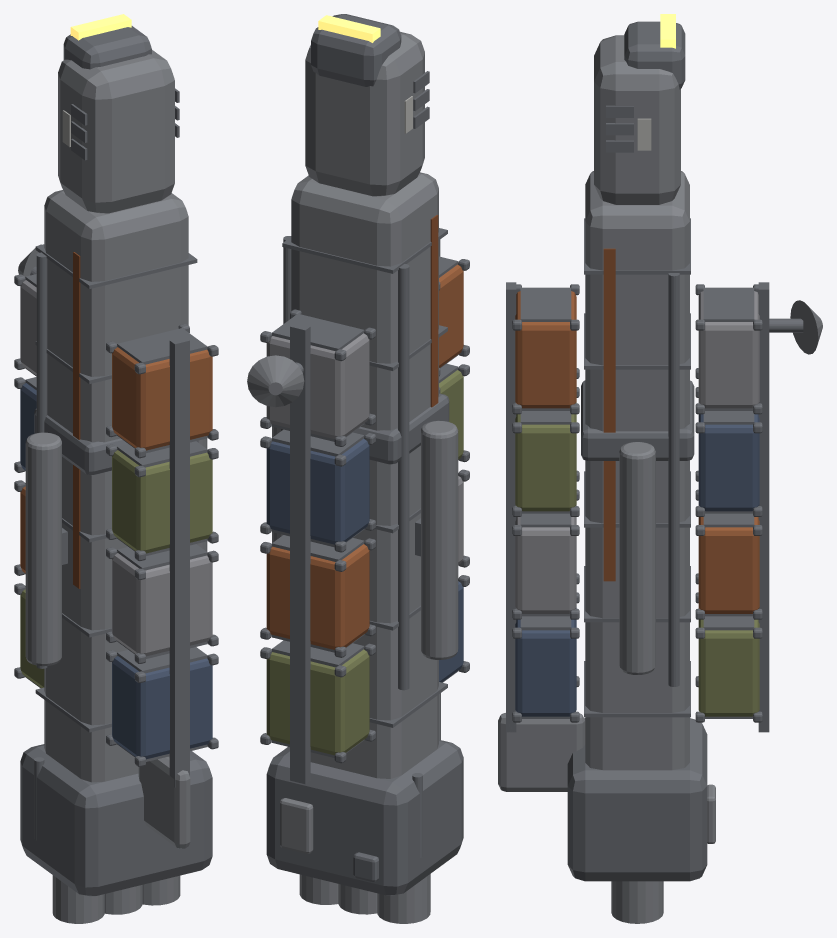
File: freighter.glb
3 views of the same model, side by side, from view 1: azimuth 30°, elevation 25°; view 2: azimuth 150°, elevation 25°; view 3: azimuth 270°, elevation 25° (orthographic). The views are drawn at different scales.
Visible parts, largest first — view 1: spine, engine, nose, rail_bot, pod_R, ct_bot_1, ct_bot_3, ct_bot_2, ct_bot_0, keel, nose_plate, stripe.001 (+16 smaller); view 2: spine, engine, nose, rail_top, pod_R, ct_top_0, ct_top_2, ct_top_1, ct_top_3, pipe_R, nose_plate, dish (+19 smaller); view 3: spine, engine, nose, pod_L, keel, ct_bot_3, ct_top_3, ct_bot_2, ct_top_2, ct_bot_0, ct_top_0, ct_top_1 (+19 smaller).
Part boxes in pixels (left/top/right/bottom): spine: left=44, top=190, right=188, bottom=782; engine: left=20, top=744, right=212, bottom=896; nose: left=58, top=50, right=174, bottom=213; rail_bot: left=169, top=337, right=189, bottom=787; pod_R: left=25, top=432, right=61, bottom=666; ct_bot_1: left=112, top=553, right=212, bottom=656; ct_bot_3: left=112, top=347, right=212, bottom=450; ct_bot_2: left=112, top=450, right=212, bottom=553; ct_bot_0: left=112, top=656, right=212, bottom=759; keel: left=138, top=757, right=190, bottom=848; nose_plate: left=63, top=26, right=151, bottom=69; stripe.001: left=73, top=252, right=80, bottom=588; spine: left=291, top=172, right=438, bottom=778; engine: left=266, top=739, right=463, bottom=895; nose: left=305, top=31, right=424, bottom=196; rail_top: left=290, top=322, right=310, bottom=784; pod_R: left=421, top=420, right=458, bottom=659; ct_top_0: left=266, top=649, right=369, bottom=755; ct_top_2: left=266, top=438, right=369, bottom=544; ct_top_1: left=266, top=544, right=369, bottom=649; ct_top_3: left=266, top=333, right=369, bottom=439; pipe_R: left=398, top=264, right=409, bottom=690; nose_plate: left=311, top=14, right=401, bottom=86; dish: left=247, top=355, right=304, bottom=407; spine: left=585, top=171, right=689, bottom=770; engine: left=567, top=718, right=707, bottom=881; nose: left=594, top=35, right=680, bottom=204; pod_L: left=619, top=442, right=655, bottom=674; keel: left=498, top=713, right=585, bottom=791; ct_bot_3: left=515, top=291, right=576, bottom=408; ct_top_3: left=698, top=291, right=759, bottom=408; ct_bot_2: left=515, top=402, right=576, bottom=511; ct_top_2: left=698, top=402, right=759, bottom=511; ct_bot_0: left=515, top=607, right=576, bottom=716; ct_top_0: left=698, top=608, right=759, bottom=716; ct_top_1: left=698, top=505, right=759, bottom=613.
Size of the model in its own units: 0.0234 by 0.11 by 0.0373.
